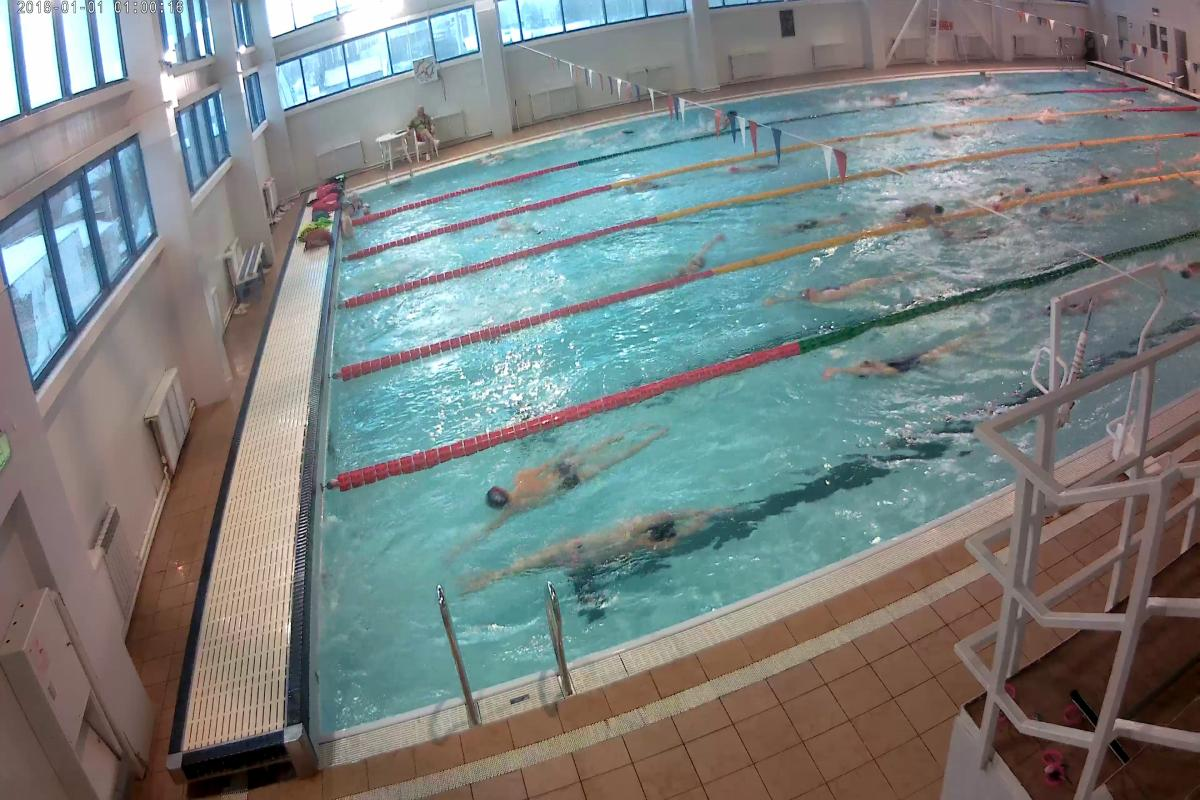swimmer: (469, 432, 634, 518), (512, 512, 712, 572), (824, 331, 983, 391), (780, 273, 901, 309), (1036, 189, 1103, 232), (655, 241, 724, 281), (1056, 282, 1123, 318), (776, 208, 860, 236), (1117, 178, 1175, 218), (892, 196, 950, 223)
